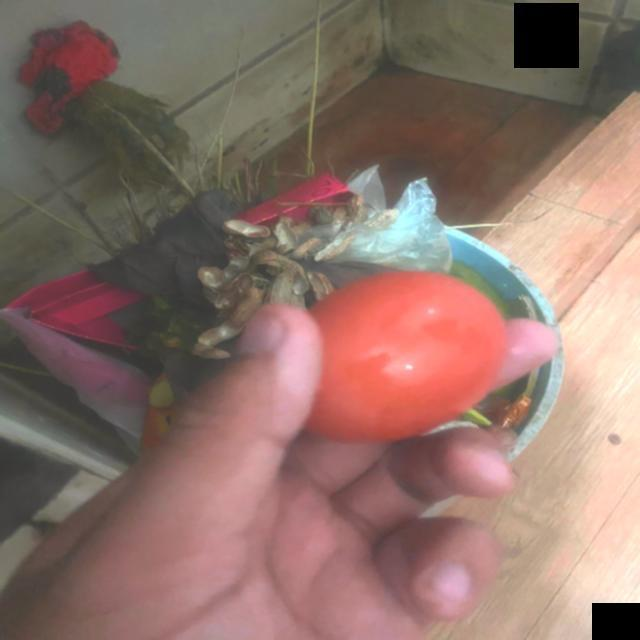egg: (290, 265, 514, 441)
